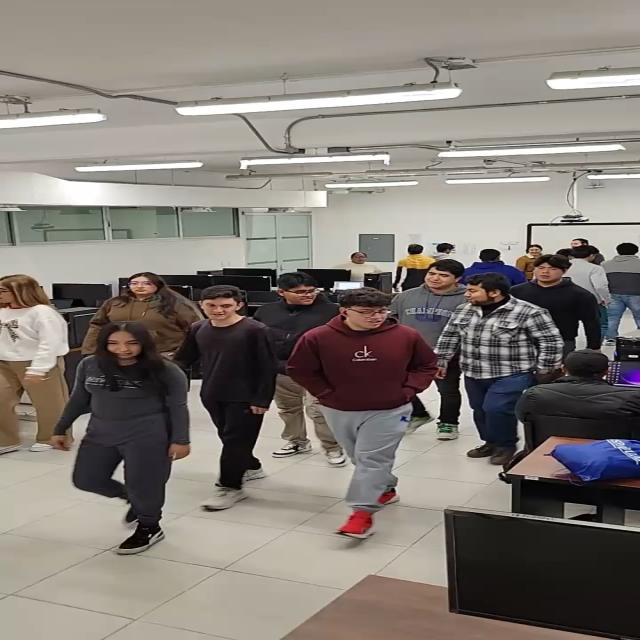Persona: (316, 286, 413, 522), (195, 281, 272, 533), (82, 322, 178, 510), (465, 277, 551, 441), (1, 277, 72, 438), (91, 266, 198, 322), (528, 255, 592, 337), (407, 260, 467, 329), (273, 262, 330, 324), (574, 245, 614, 327), (605, 238, 637, 324), (399, 240, 431, 287), (330, 246, 381, 268)
